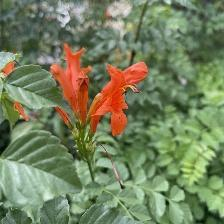honeysuckle: (93, 57, 154, 143)
